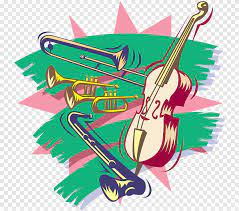Saxophone: (39, 104, 176, 211)
